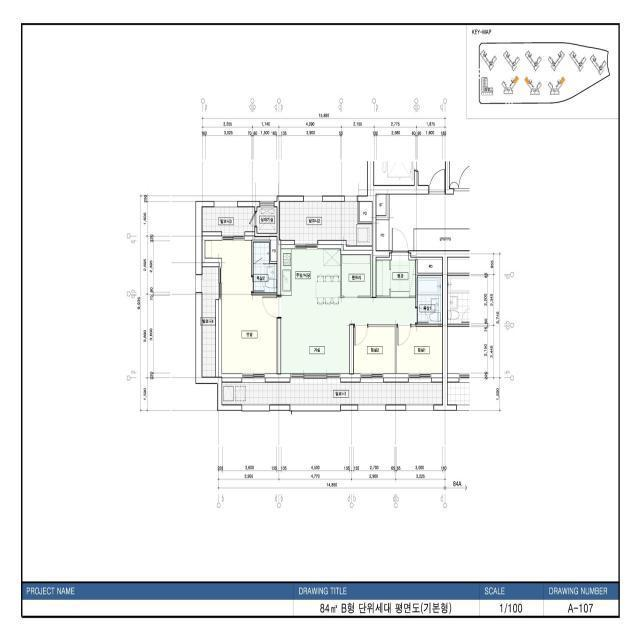space_balconi: (222, 379, 442, 404), (280, 202, 358, 246), (202, 267, 218, 377), (202, 207, 254, 235)
space_bedroom: (205, 240, 277, 373), (397, 327, 442, 373), (354, 327, 395, 373)
space_front: (376, 253, 415, 298)
space_kitchen: (281, 249, 341, 298)
space_living_room: (281, 298, 416, 373)
space_multipurpose_space: (342, 255, 370, 296)
space_other: (376, 220, 389, 250), (357, 224, 372, 246), (417, 260, 442, 273), (360, 202, 372, 222), (376, 194, 386, 215), (271, 240, 277, 261)
space_outdoor_room: (257, 207, 277, 233)
space_toilet: (417, 275, 442, 324), (254, 243, 277, 292)
